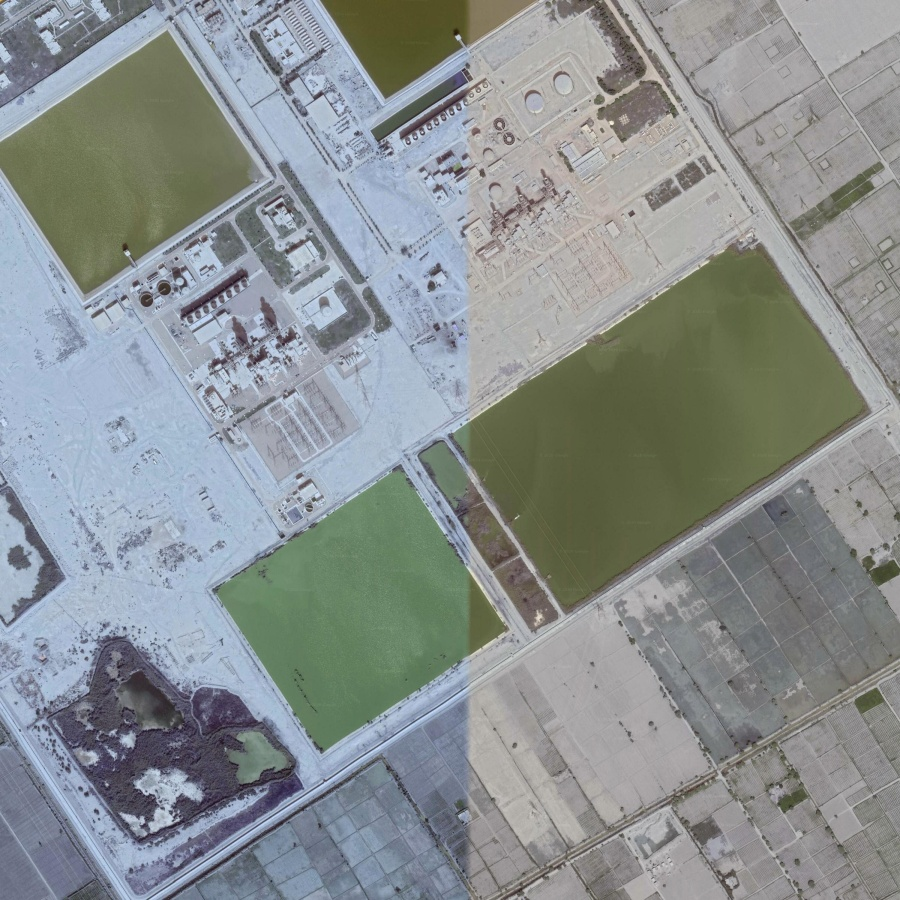PowerPlant: (136, 193, 378, 514), (418, 72, 613, 266)
